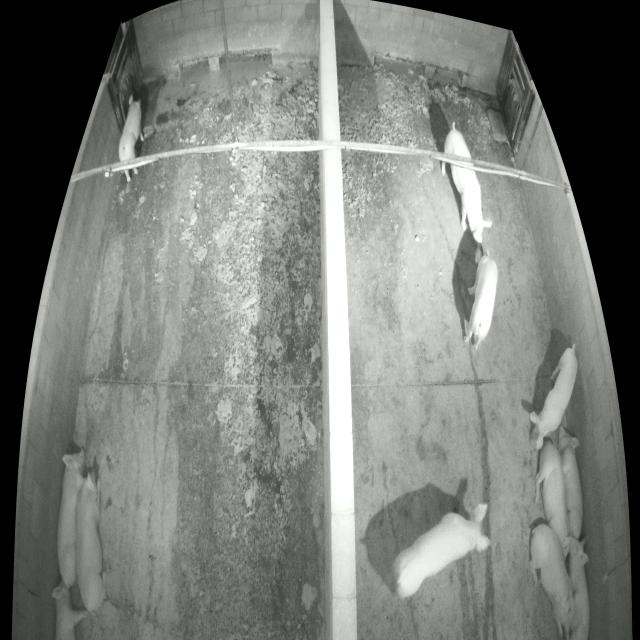pig: (391, 503, 490, 600), (529, 526, 579, 639), (442, 130, 492, 243), (530, 348, 578, 452), (75, 471, 106, 612), (56, 449, 85, 588), (463, 242, 498, 350), (535, 442, 568, 544), (563, 533, 591, 639), (558, 428, 584, 539), (118, 92, 145, 181), (51, 579, 87, 639)
